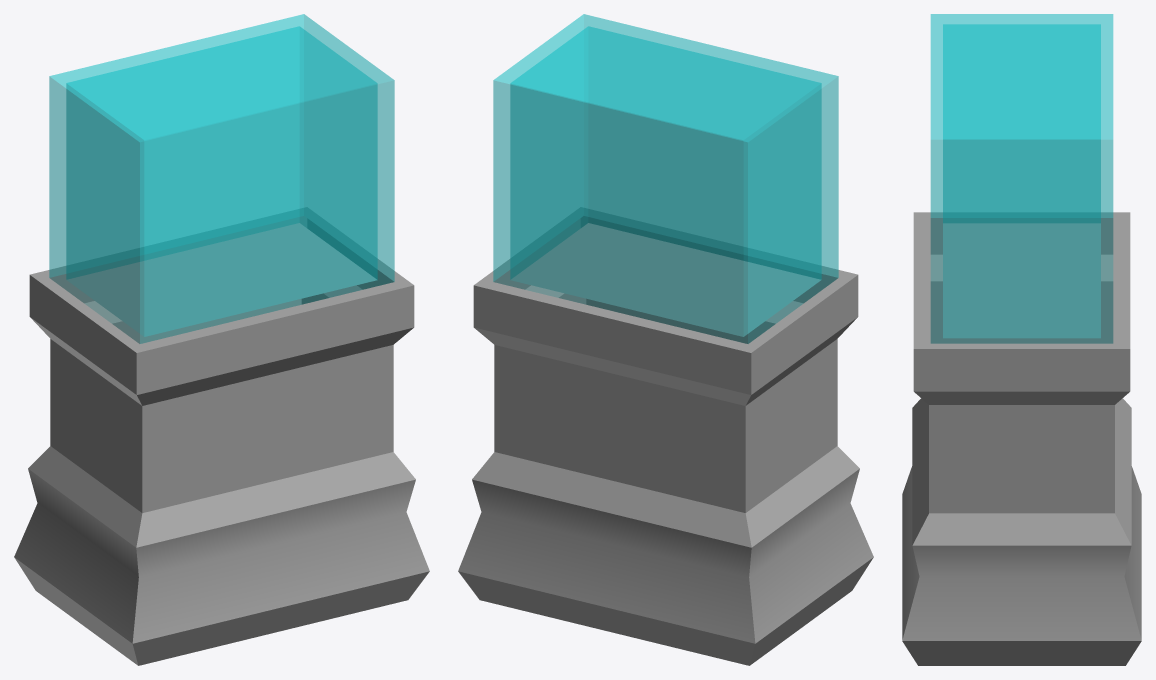
The model's file is shelve.fbx.
The picture shows the model from 3 angles, left to right: view 1: azimuth 30°, elevation 25°; view 2: azimuth 150°, elevation 25°; view 3: azimuth 270°, elevation 25°; orthographic projection.
Parts seen in each view (by area): view 1: Shelve; view 2: Shelve; view 3: Shelve.
Boxes of the visible parts, <box> form: Shelve: <box>14,14,429,665</box>; Shelve: <box>458,14,873,665</box>; Shelve: <box>902,14,1141,665</box>.
Size of the model in its own units: 1.08 by 1.8 by 0.7469.
